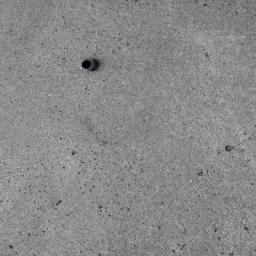FOD: (79, 55, 102, 76)
